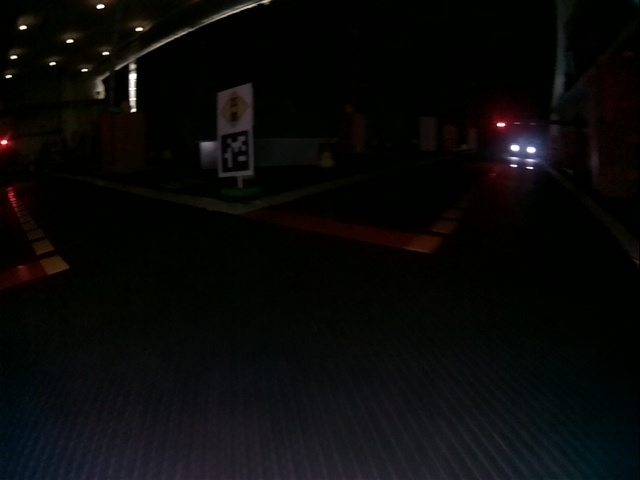Duckie: (320, 152, 334, 167)
QR code: (219, 131, 251, 174)
Signal sign: (218, 91, 250, 128)
